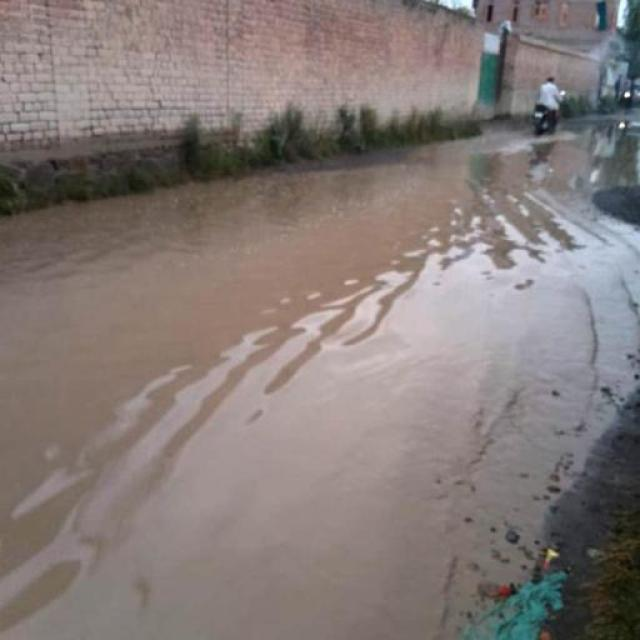puddle: (9, 224, 534, 640), (387, 138, 603, 492), (175, 176, 430, 259)
